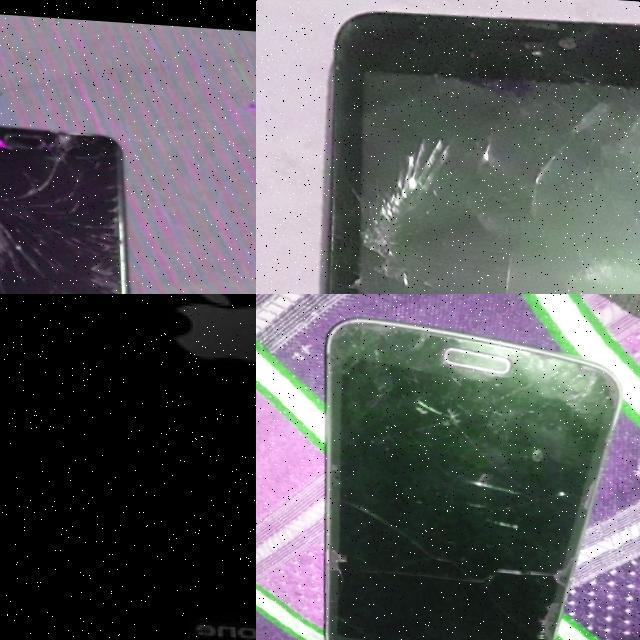screen crack: (289, 69, 640, 294), (0, 112, 112, 294), (496, 527, 592, 640), (386, 377, 489, 436), (280, 527, 367, 594), (452, 465, 583, 506)
